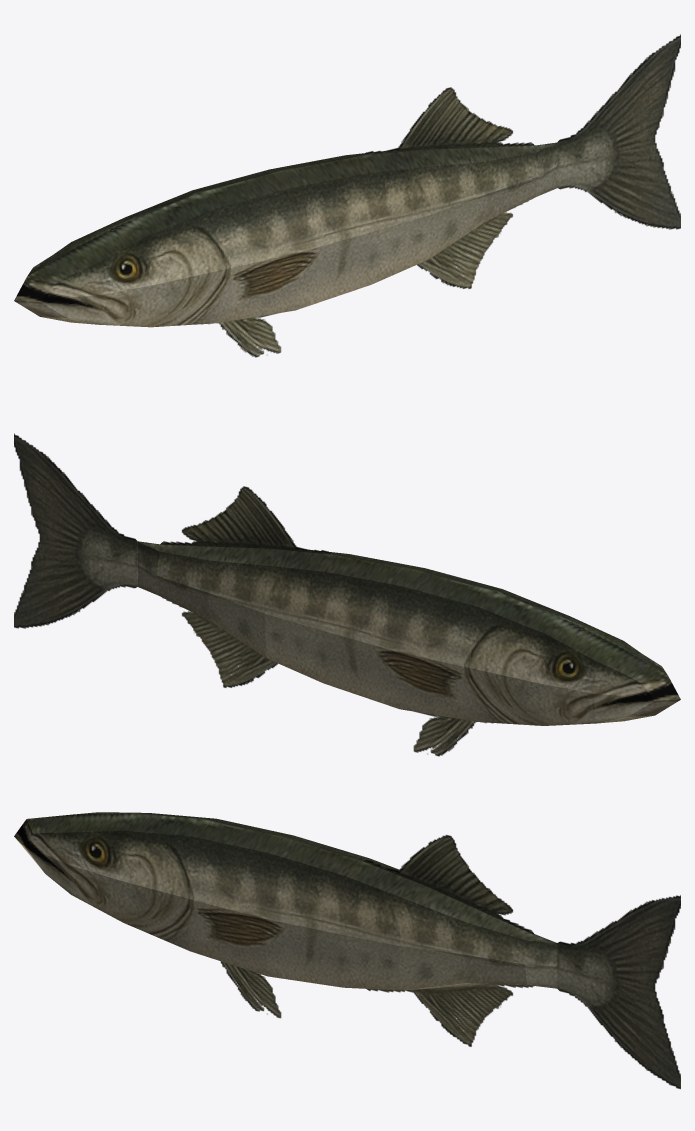
File: Barracuda.glb
3 views of the same model, one above another, from view 1: azimuth 30°, elevation 25°; view 2: azimuth 150°, elevation 25°; view 3: azimuth 330°, elevation 25° (orthographic).
Parts seen in each view (by area): view 1: Barracuda; view 2: Barracuda; view 3: Barracuda.
Part boxes in pixels (<box>): Barracuda: <box>14,34,680,357</box>; Barracuda: <box>14,433,680,756</box>; Barracuda: <box>14,812,680,1089</box>.
Size of the model in its own units: 2.1 by 0.821 by 0.203.
Materials: 1 (1 with a texture image).
